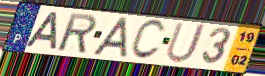3: (199, 27, 232, 66)
A: (90, 16, 129, 59), (23, 11, 61, 51)
C: (128, 18, 167, 62)
R: (57, 12, 99, 55)
U: (164, 21, 209, 65)
